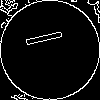I: (25, 25, 72, 49)
